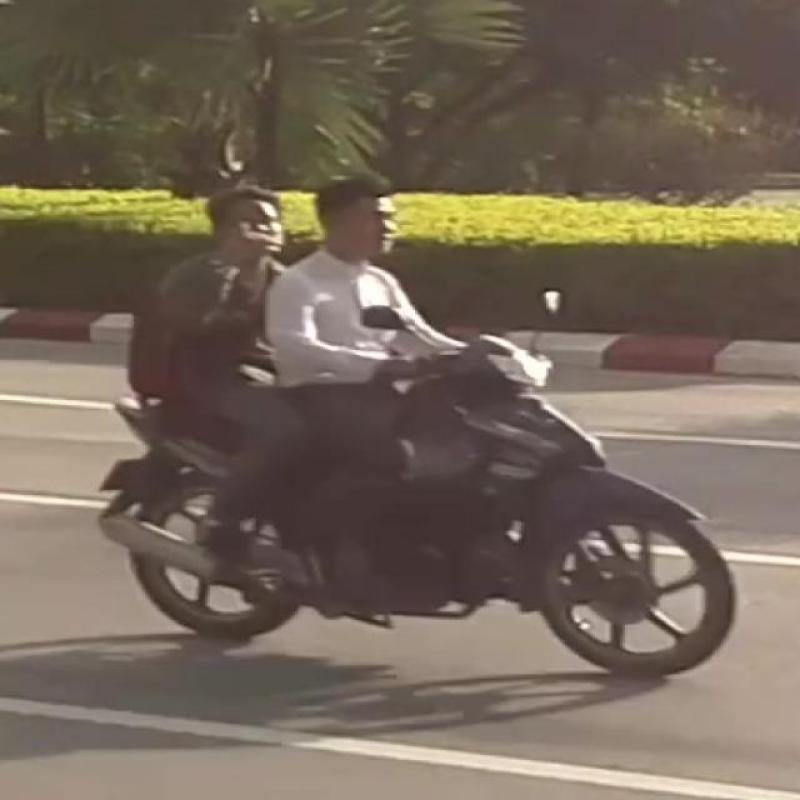nohelmet: (165, 173, 289, 293), (303, 156, 423, 256)
